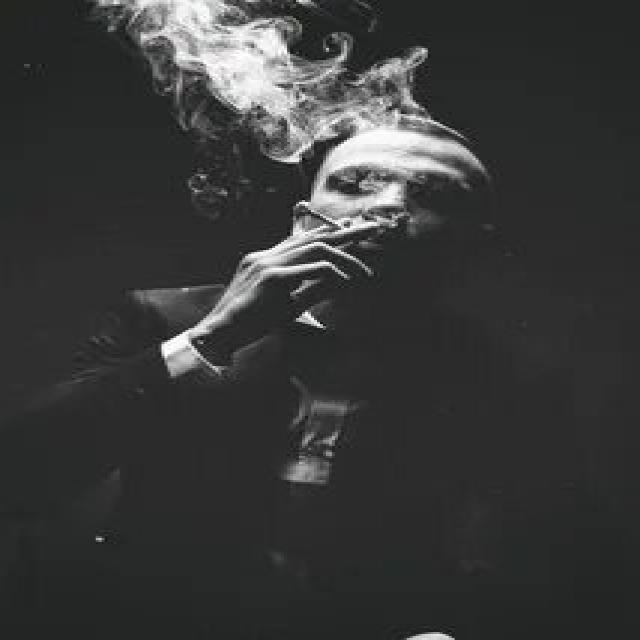smoke: (302, 200, 356, 236)
